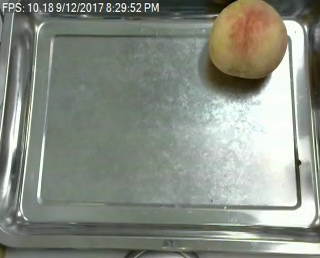Peach: (207, 0, 288, 79)
